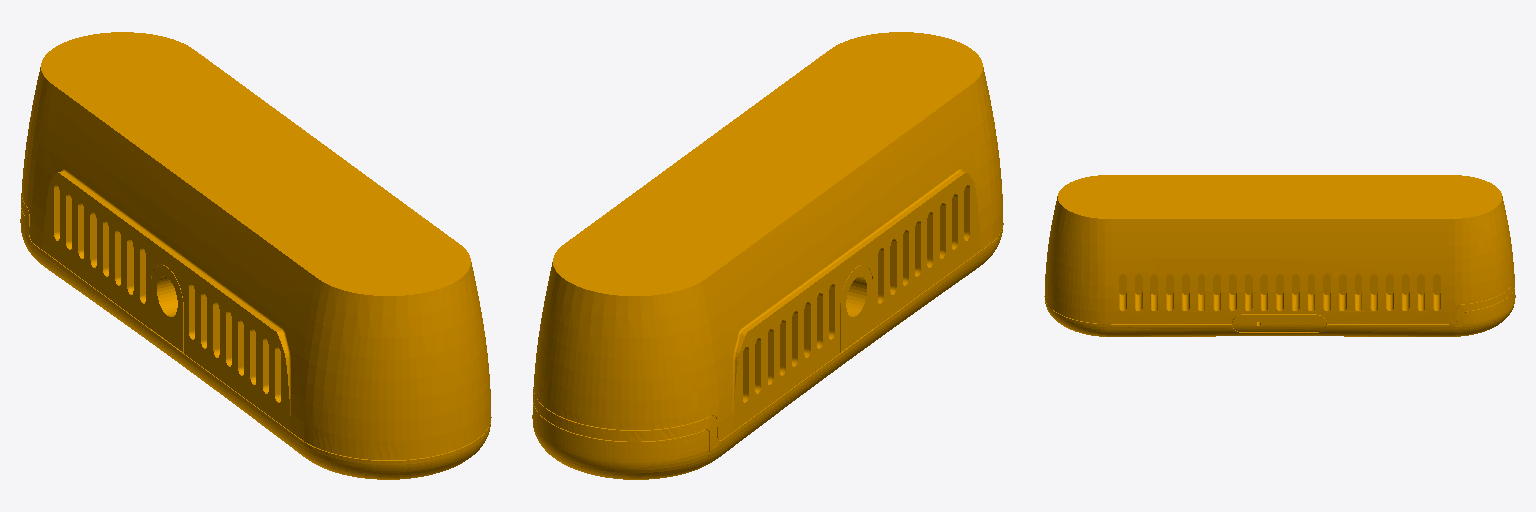
URDF robot description (d435):
<?xml version="1.0" encoding="utf-8"?>
<!-- =================================================================================== -->
<!-- |    This document was autogenerated by xacro from d435.urdf.xacro                | -->
<!-- |    EDITING THIS FILE BY HAND IS NOT RECOMMENDED                                 | -->
<!-- =================================================================================== -->
<robot name="d435">
  <!-- for simulation -->
  <!--  <xacro:include filename="$(find franka_description)/robots/panda.gazebo.xacro"/>-->
  <!--  <xacro:include filename="panda.transmission.xacro"/>-->
  <!-- end for simulation -->
  <link name="_d435">
    <visual>
      <geometry>
        <mesh filename="package://mz04_description/meshes/visual/d435.dae"/>
      </geometry>
    </visual>
    <collision>
      <geometry>
        <mesh filename="package://mz04_description/meshes/collision/d435.stl"/>
      </geometry>
    </collision>
    <!-- for simulation -->
    <inertial>
      <origin rpy="0 0 0" xyz="0 0 0"/>
      <mass value="0.1"/>
      <inertia ixx="0.01" ixy="0.0" ixz="0.0" iyy="0.01" iyz="0.0" izz="0.01"/>
    </inertial>
    <!-- end for simulation -->
  </link>
  <!-- for simulation -->
  <!--  <xacro:arg name="robot_name" default="mz04"/>-->
  <!--  <xacro:panda_gazebo robot_name="$(arg robot_name)" />-->
  <!--  <xacro:panda_transmission robot_name="$(arg robot_name)" load_hand="false" />-->
  <!-- end for simulation -->
</robot>

--- Facts derived from the render (not from the file) ---
3 views of the same robot in one strip: view 1: azimuth 30°, elevation 25°; view 2: azimuth 150°, elevation 25°; view 3: azimuth 270°, elevation 25° (orthographic).
Robot: d435 — 1 links, 0 joints (none); root link _d435; default pose: every joint at zero.
Links seen in each view (by area): view 1: _d435; view 2: _d435; view 3: _d435.
Boxes of the visible links, x1,y1,x2,y2 form: _d435: [20, 32, 491, 479]; _d435: [532, 32, 1003, 479]; _d435: [1044, 175, 1515, 336].
Size in the robot's own frame: 0.025 by 0.09 by 0.025 metres.
1 mesh visuals loaded from 1 distinct referenced files (1 Collada DAE).